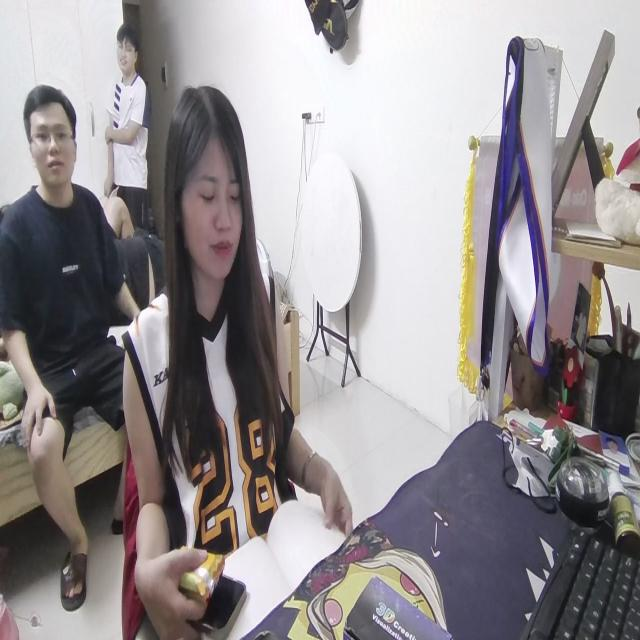book: (220, 495, 346, 630)
extra_person: (0, 83, 145, 601), (105, 23, 152, 225)
phone: (201, 564, 245, 630)
student: (123, 86, 358, 640)
